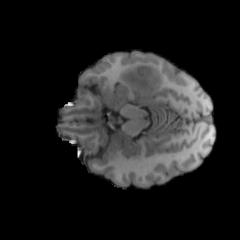glioma: (120, 65, 163, 96)
